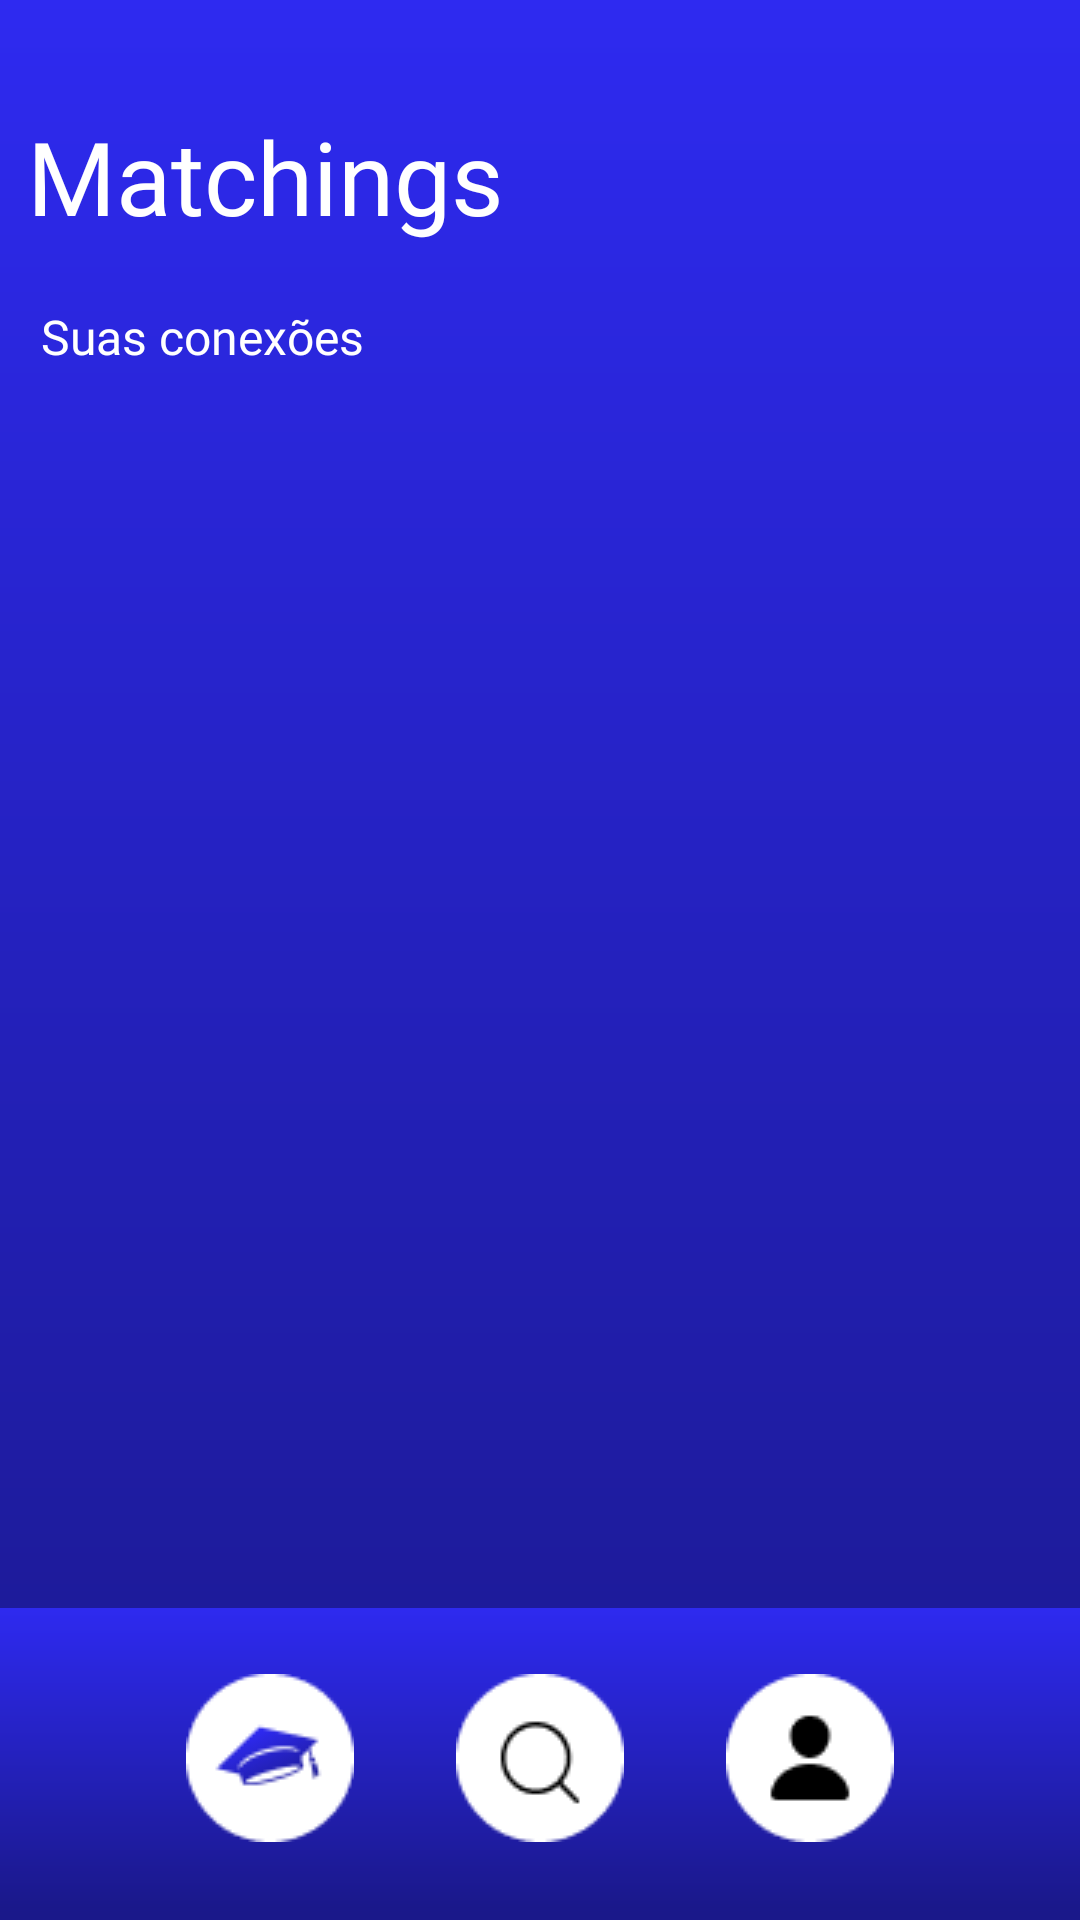

Named icons in this screenshot (1080×1920) and their centers, (x=x, y=y):
search: (x=540, y=1758)
user: (x=810, y=1758)
